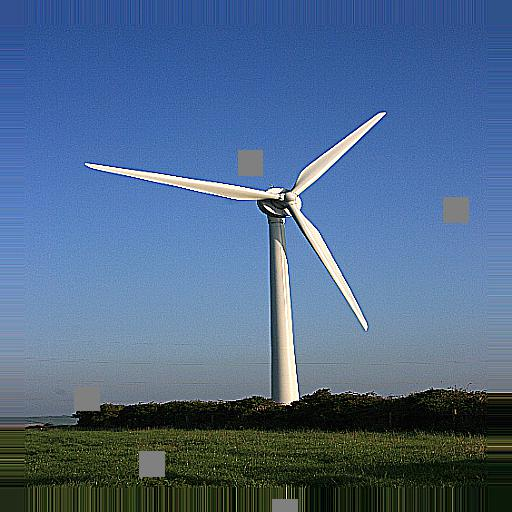wind turbine: (82, 111, 389, 394)
